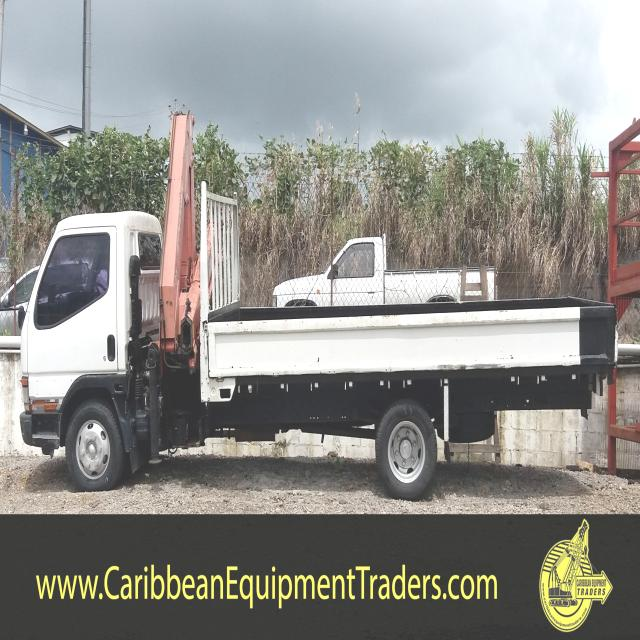truck: (22, 110, 621, 490)
